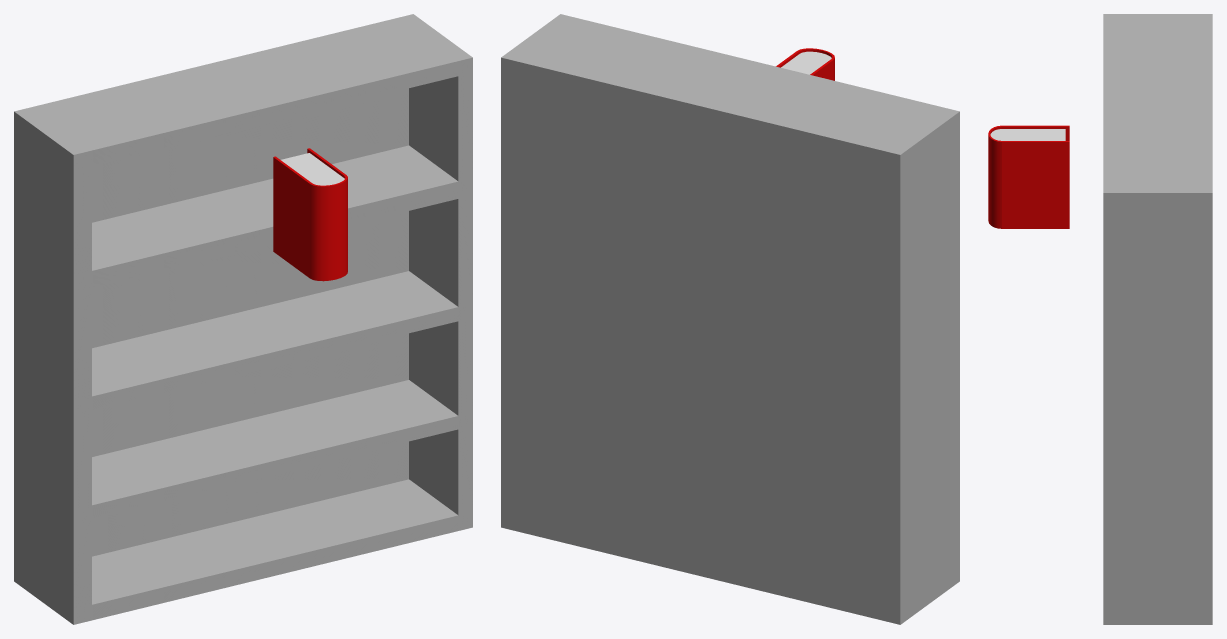
File: book.fbx
The picture shows the model from 3 angles, left to right: view 1: azimuth 30°, elevation 25°; view 2: azimuth 150°, elevation 25°; view 3: azimuth 270°, elevation 25°; orthographic projection. The views are drawn at different scales.
Parts seen in each view (by area): view 1: pCube1, pCylinder3; view 2: pCube1, pCylinder3; view 3: pCube1, pCylinder3.
Boxes of the visible parts, x1,y1,x2,y2 form: pCube1: [14, 14, 472, 624]; pCylinder3: [273, 148, 347, 281]; pCube1: [501, 14, 959, 624]; pCylinder3: [776, 48, 834, 80]; pCube1: [1103, 14, 1212, 624]; pCylinder3: [988, 125, 1069, 228].
Size of the model in its own units: 1.78 by 2 by 0.9417.
